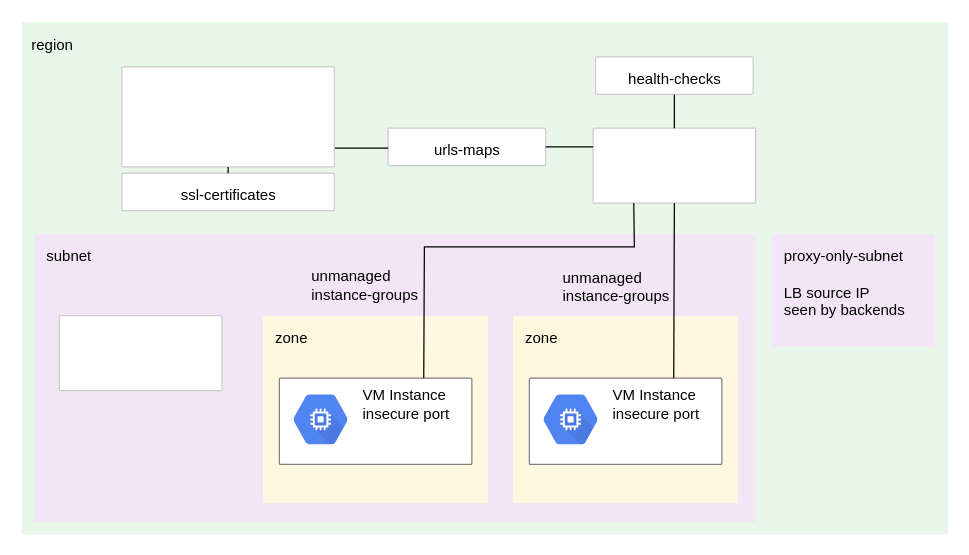
This 969x555 diagram has some shape labels left out. The centre of each missing label's shape, as x and y in pixels:
backend-services: (674,165)
forwarding-rule IP:port of LB: (140,352)
target-https-proxies regional internal HTTPS load balancer: (227,116)
